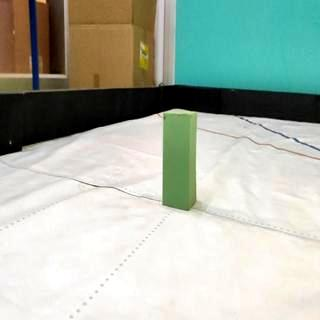greenbox: (162, 109, 198, 211)
